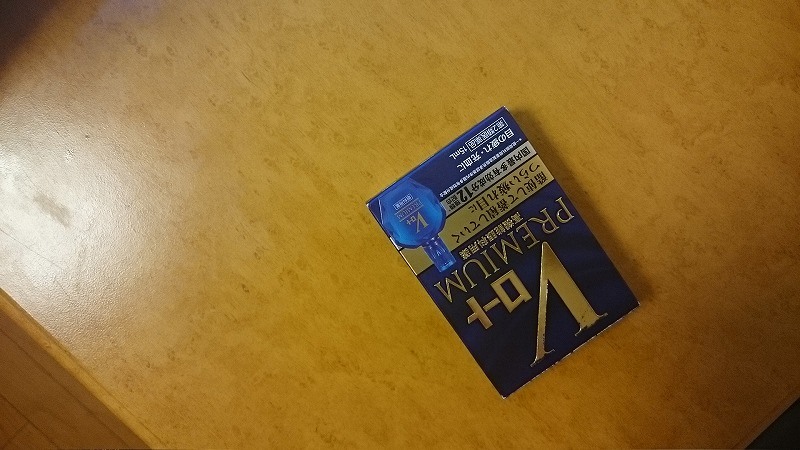D: (346, 102, 644, 404)
